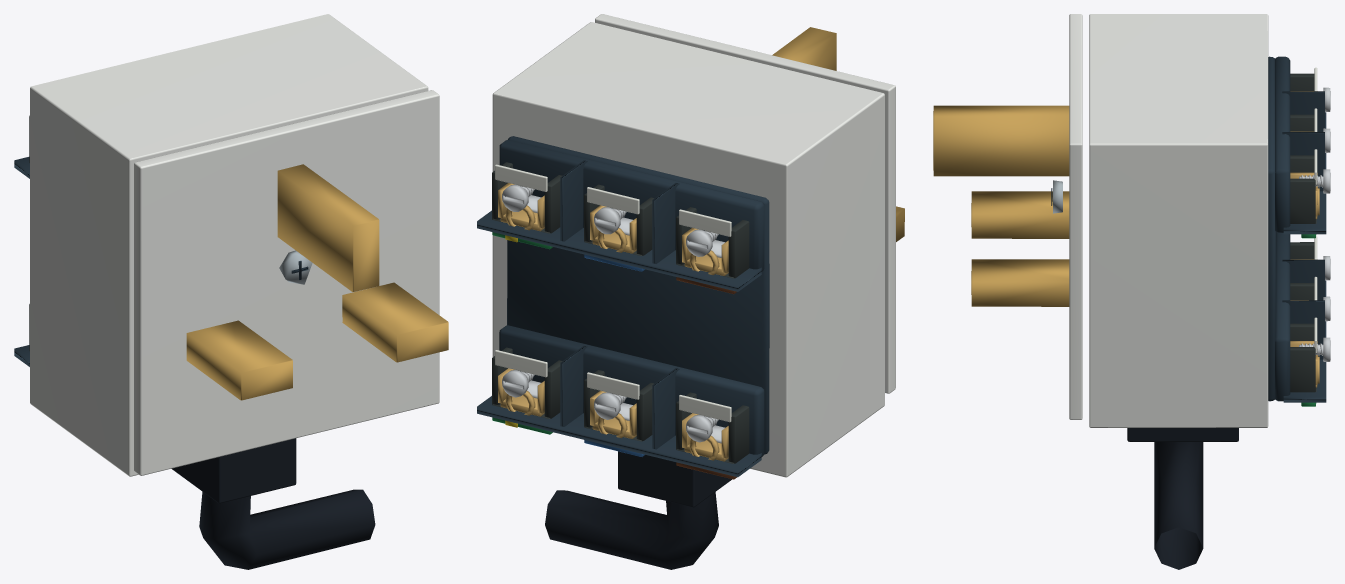
The model's file is plug_default.low.glb.
3 views of the same model, side by side, from view 1: azimuth 30°, elevation 25°; view 2: azimuth 150°, elevation 25°; view 3: azimuth 270°, elevation 25° (orthographic). The views are drawn at different scales.
Parts seen in each view (by area): view 1: part:cover, part:body, part:body.001 · Original df732090, part:sheath; view 2: part:body, part:terminals · Original a463fd81, part:sheath, part:cover, part:body.001 · Original df732090, detail:terminal-clamp:LOUT · Detail moulded engineering poly, detail:terminal-clamp:L · Detail moulded engineering polymer, detail:terminal-clamp:PEOUT · Detail moulded engineering pol, detail:terminal-clamp:N · Detail moulded engineering polymer, detail:terminal-clamp:PE · Detail moulded engineering polyme, detail:terminal-clamp:NOUT · Detail moulded engineering poly, detail:terminal-clamp:LOUT · Detail machined brass (+17 smaller); view 3: part:body, part:body.001 · Original df732090, part:terminals · Original a463fd81, part:sheath, part:cover, detail:terminal-clamp:PE · Detail moulded engineering polyme, detail:terminal-clamp:PEOUT · Detail moulded engineering pol.
Part boxes in pixels (box(x1,y1,x2,y2)): part:cover: box(134, 90, 439, 475); part:body: box(30, 14, 428, 503); part:body.001 · Original df732090: box(186, 164, 448, 400); part:sheath: box(199, 489, 375, 569); part:body: box(492, 22, 884, 507); part:terminals · Original a463fd81: box(477, 136, 769, 477); part:sheath: box(545, 490, 718, 569); part:cover: box(595, 14, 895, 393); part:body.001 · Original df732090: box(772, 27, 904, 241); detail:terminal-clamp:LOUT · Detail moulded engineering poly: box(676, 392, 749, 463); detail:terminal-clamp:L · Detail moulded engineering polymer: box(676, 207, 749, 278); detail:terminal-clamp:PEOUT · Detail moulded engineering pol: box(492, 347, 562, 418); detail:terminal-clamp:N · Detail moulded engineering polymer: box(584, 184, 653, 255); detail:terminal-clamp:PE · Detail moulded engineering polyme: box(492, 162, 562, 233); detail:terminal-clamp:NOUT · Detail moulded engineering poly: box(584, 370, 653, 441); detail:terminal-clamp:LOUT · Detail machined brass: box(682, 413, 728, 461); part:body: box(1089, 14, 1268, 441); part:body.001 · Original df732090: box(933, 105, 1069, 306); part:terminals · Original a463fd81: box(1268, 56, 1326, 402); part:sheath: box(1154, 442, 1203, 569); part:cover: box(1053, 14, 1082, 419); detail:terminal-clamp:PE · Detail moulded engineering polyme: box(1290, 155, 1316, 223); detail:terminal-clamp:PEOUT · Detail moulded engineering pol: box(1290, 323, 1316, 392).
Bounding box in the file's own units: 0.6515 × 1.01 × 0.8365.
